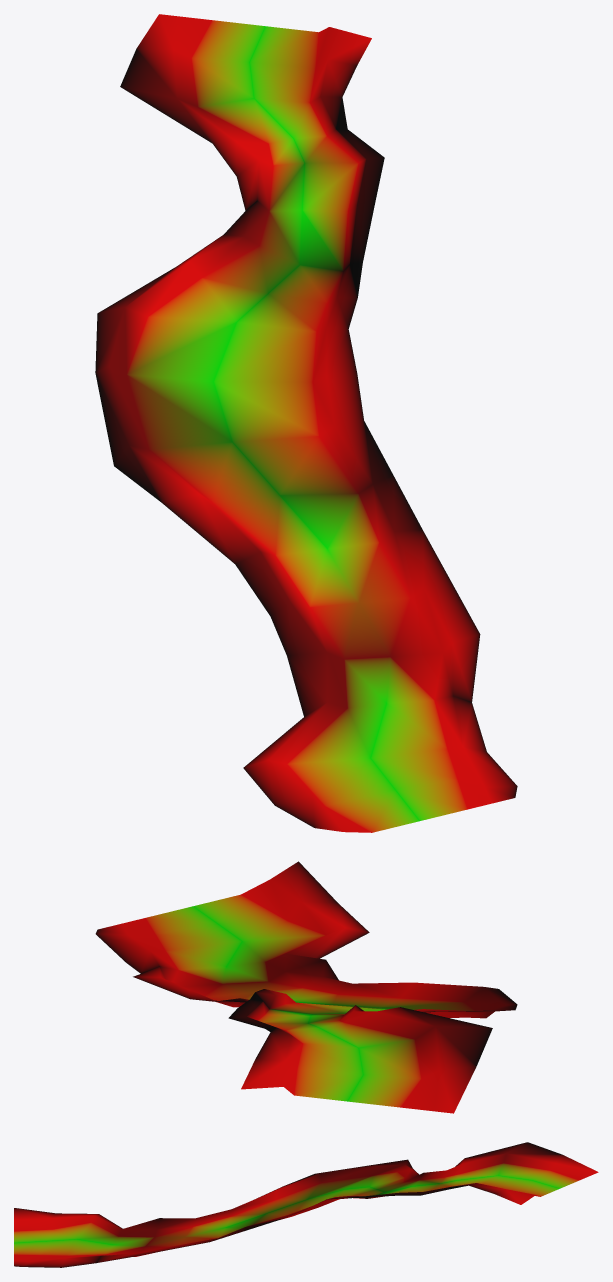
Rendered from Section_WayBend45AngleInTransition01_Mountains_Terrain.fbx.
3 renders of one model, top to bottom at view 1: azimuth 30°, elevation 25°; view 2: azimuth 210°, elevation 25°; view 3: azimuth 270°, elevation 25°, orthographic. The views are drawn at different scales.
Visible parts, largest first — view 1: Section_WayBend45AngleInTransition01_Mountains_Terrain; view 2: Section_WayBend45AngleInTransition01_Mountains_Terrain; view 3: Section_WayBend45AngleInTransition01_Mountains_Terrain.
Part boxes in pixels (x1,y1,x2,y2): Section_WayBend45AngleInTransition01_Mountains_Terrain: [95, 14, 517, 832]; Section_WayBend45AngleInTransition01_Mountains_Terrain: [95, 861, 517, 1113]; Section_WayBend45AngleInTransition01_Mountains_Terrain: [14, 1142, 598, 1267].
Size of the model in its own units: 2957 by 1535 by 5304.
